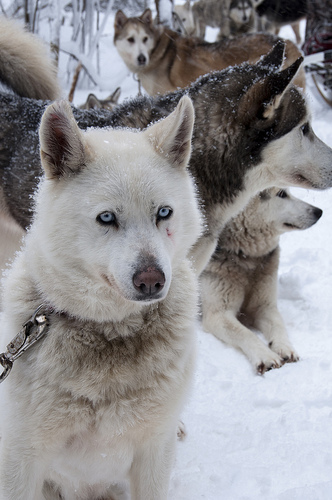dog: (0, 96, 202, 498)
